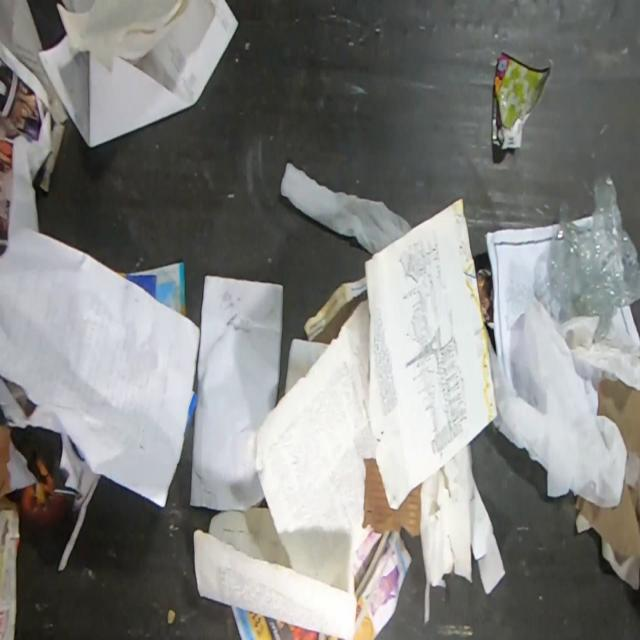cardboard: (363, 459, 421, 537)
soft_plastic: (536, 169, 640, 345)
